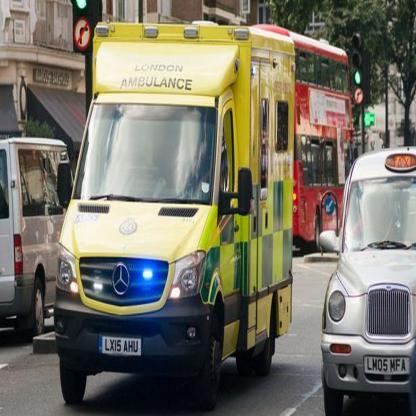Ambulance - v1 Ambulance last generate: (60, 21, 300, 403)
